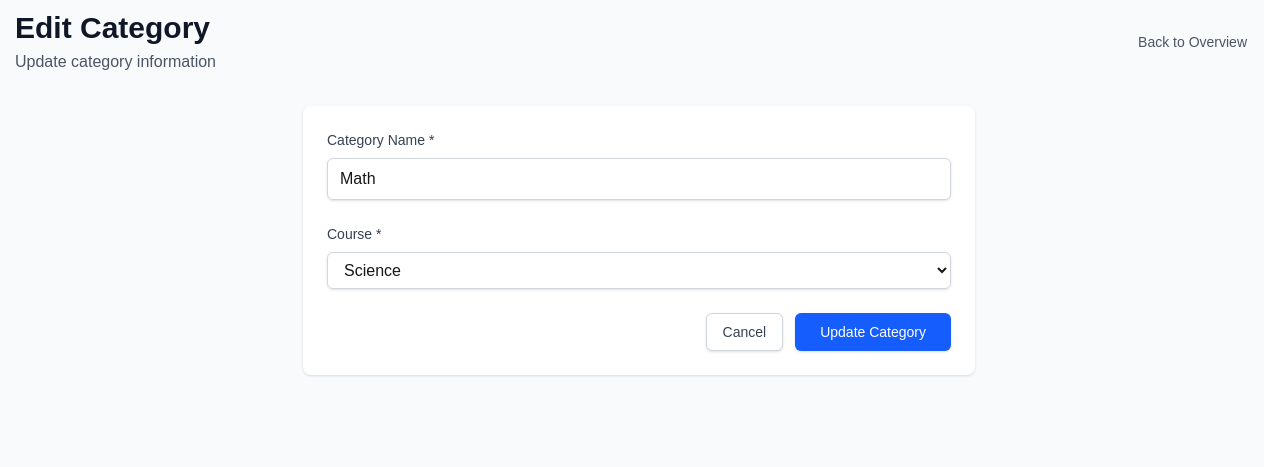
Test: EditCategoryPage › submits form and shows success message
The width and height of the screenshot is (1264, 467).
Replace the text in the field labelled "Category Name *" with "Updated Name" at [639, 179], box 327,158 -> 951,200
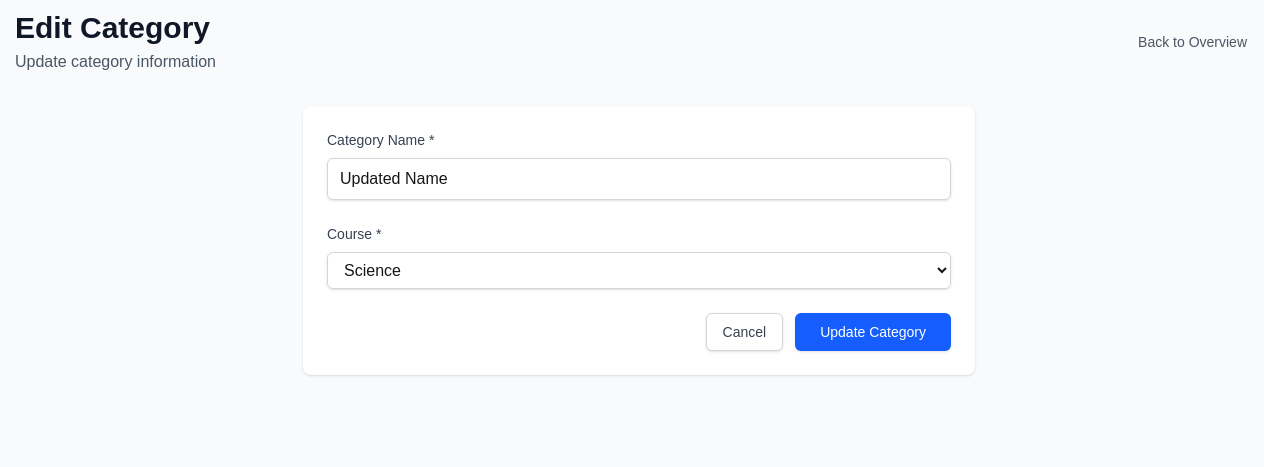
Click the button "Update Category" at [873, 332], box 795,313 -> 951,351
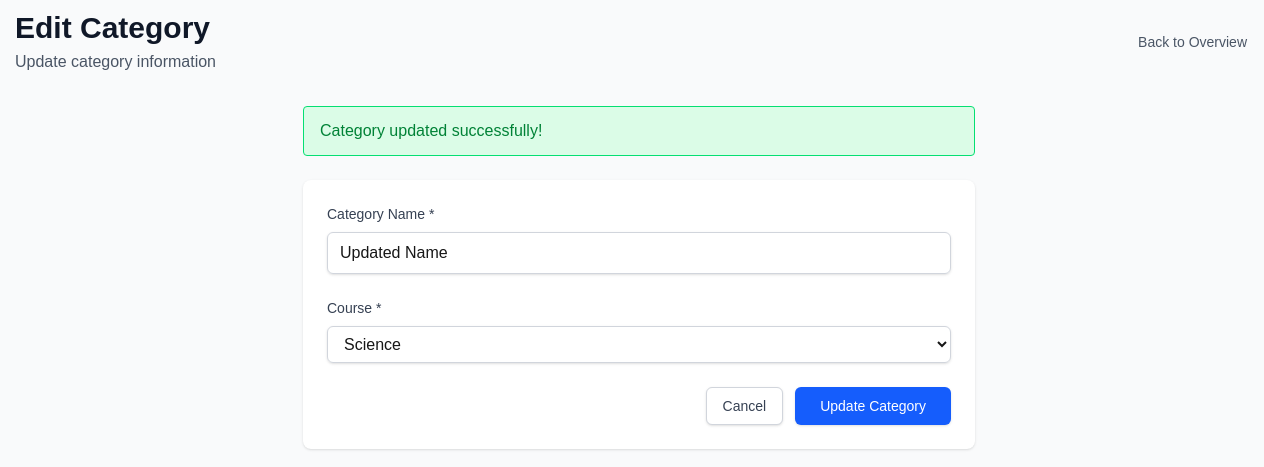
Check: the text "Category updated successfully!" is shown, box 303,106 -> 975,156
